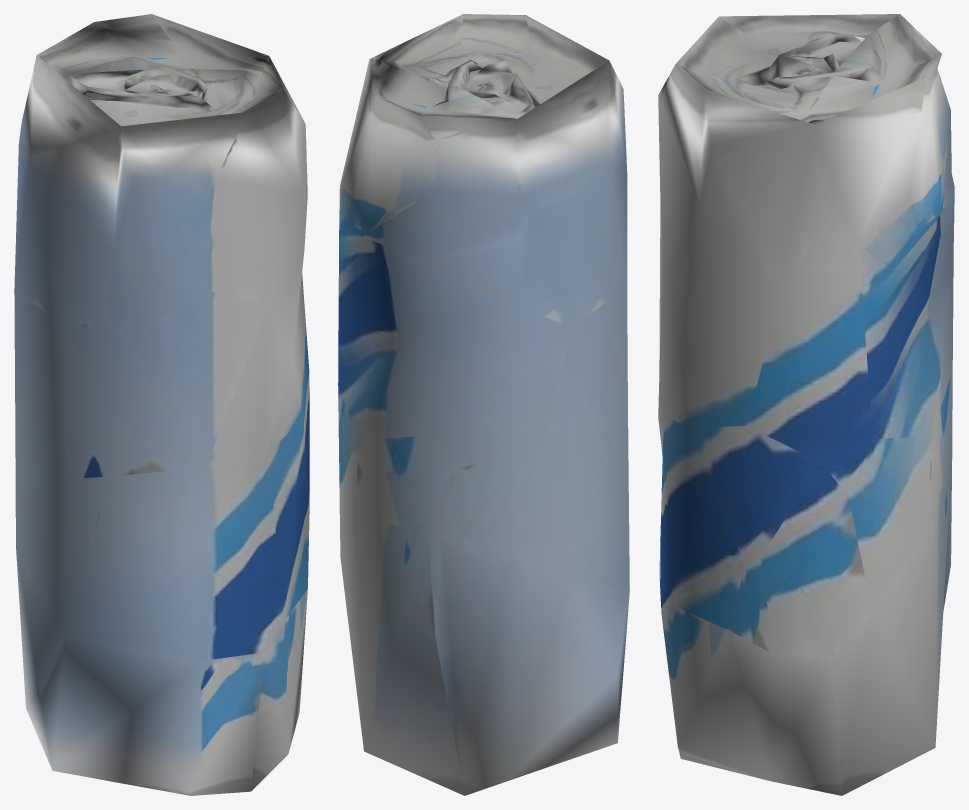
File: can-kib-hf.glb
3 views of the same model, side by side, from view 1: azimuth 30°, elevation 25°; view 2: azimuth 150°, elevation 25°; view 3: azimuth 270°, elevation 25° (orthographic). The views are drawn at different scales.
Parts seen in each view (by area): view 1: tripo_node_01765f3a-d5d5-4733-bb2e-c5961343384f; view 2: tripo_node_01765f3a-d5d5-4733-bb2e-c5961343384f; view 3: tripo_node_01765f3a-d5d5-4733-bb2e-c5961343384f.
Part boxes in pixels (x1,y1,x2,y2): tripo_node_01765f3a-d5d5-4733-bb2e-c5961343384f: [14, 14, 309, 795]; tripo_node_01765f3a-d5d5-4733-bb2e-c5961343384f: [338, 14, 629, 795]; tripo_node_01765f3a-d5d5-4733-bb2e-c5961343384f: [658, 14, 954, 795].
Size of the model in its own units: 0.3868 by 0.995 by 0.3861.
Materials: 1 (1 with a texture image).
